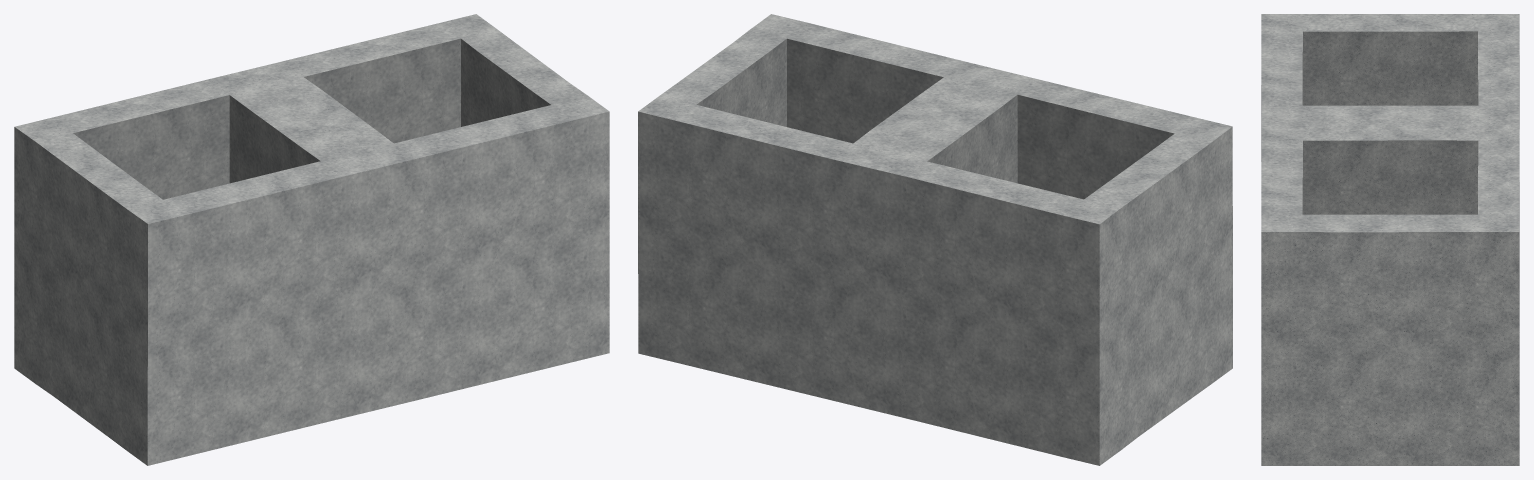
File: cement-block-2-void-plain.glb
3 renders of one model, left to right at view 1: azimuth 30°, elevation 25°; view 2: azimuth 150°, elevation 25°; view 3: azimuth 270°, elevation 25°, orthographic. The views are drawn at different scales.
Parts seen in each view (by area): view 1: cement-block-2-void-plain; view 2: cement-block-2-void-plain; view 3: cement-block-2-void-plain.
Boxes of the visible parts, box(x1,y1,x2,y2) form: cement-block-2-void-plain: box(14, 14, 609, 465); cement-block-2-void-plain: box(638, 14, 1232, 465); cement-block-2-void-plain: box(1261, 14, 1519, 465).
Bounding box in the file's own units: 0.4002 × 0.2004 × 0.2004.
1 material, 1 textured.
